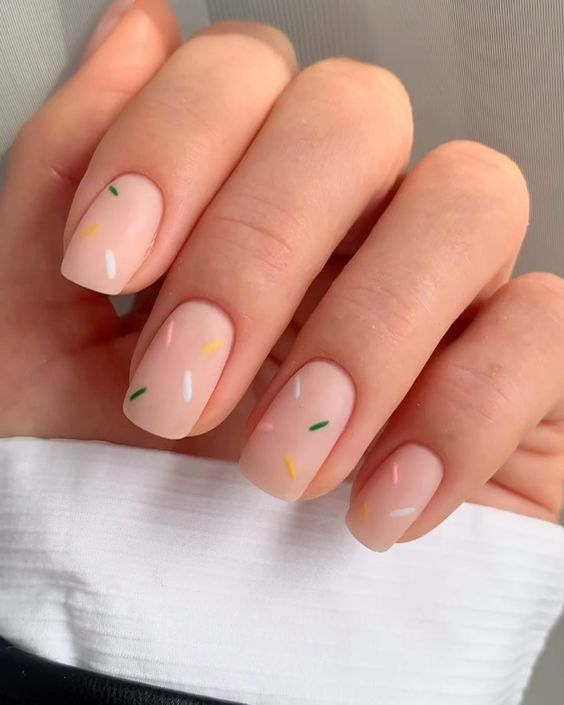nails: (233, 351, 367, 509), (120, 292, 241, 444), (51, 164, 172, 305), (342, 431, 465, 555), (69, 1, 176, 74)
